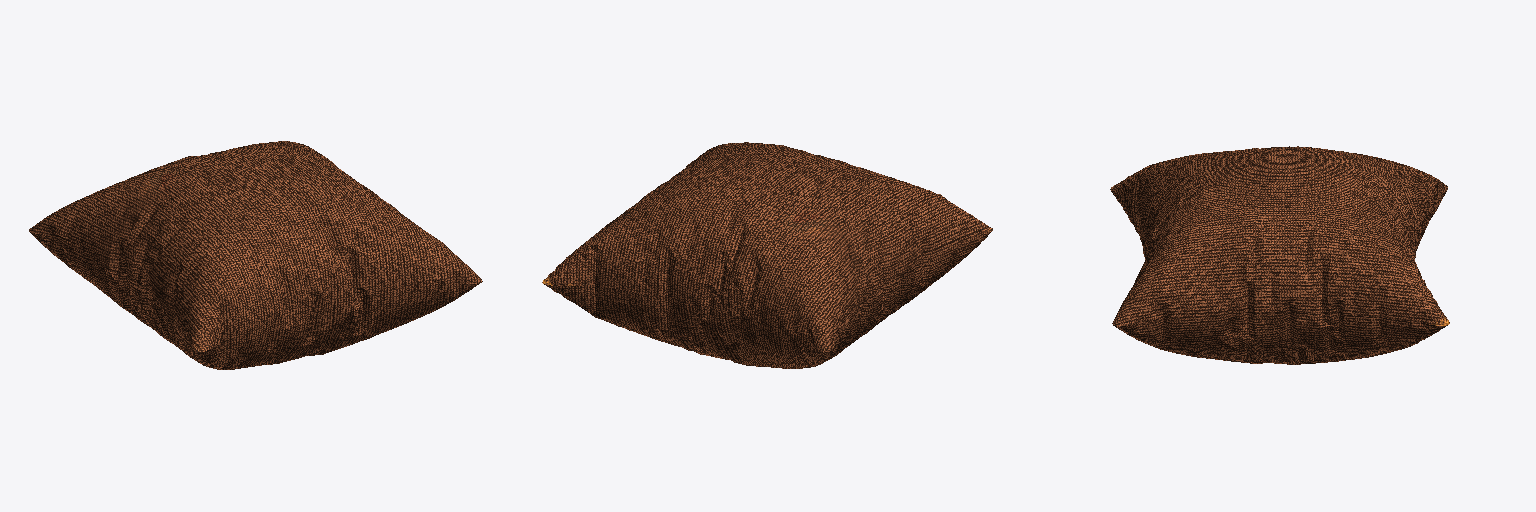
3 renders of one model, left to right at view 1: azimuth 30°, elevation 25°; view 2: azimuth 150°, elevation 25°; view 3: azimuth 270°, elevation 25°, orthographic.
Visible parts, largest first — view 1: Pillow_Plane; view 2: Pillow_Plane; view 3: Pillow_Plane.
Boxes of the visible parts, x1,y1,x2,y2 form: Pillow_Plane: [29, 141, 482, 369]; Pillow_Plane: [542, 142, 992, 368]; Pillow_Plane: [1110, 146, 1449, 364].
Size of the model in its own units: 6.43 by 3.56 by 6.52.
1 materials, 1 textured.